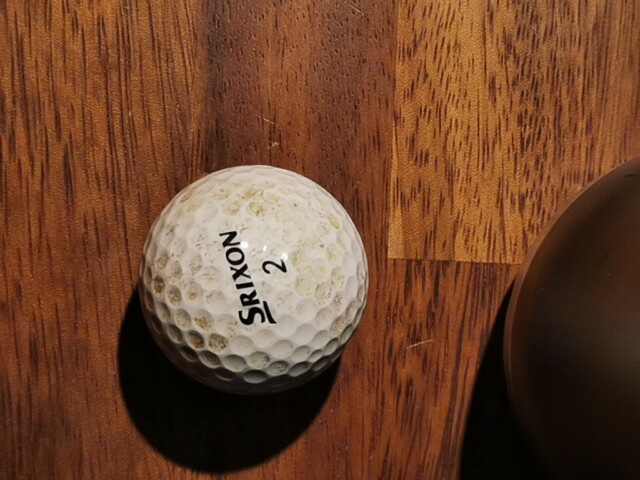Ball: (139, 165, 370, 396)
Srixon: (219, 231, 276, 325)
